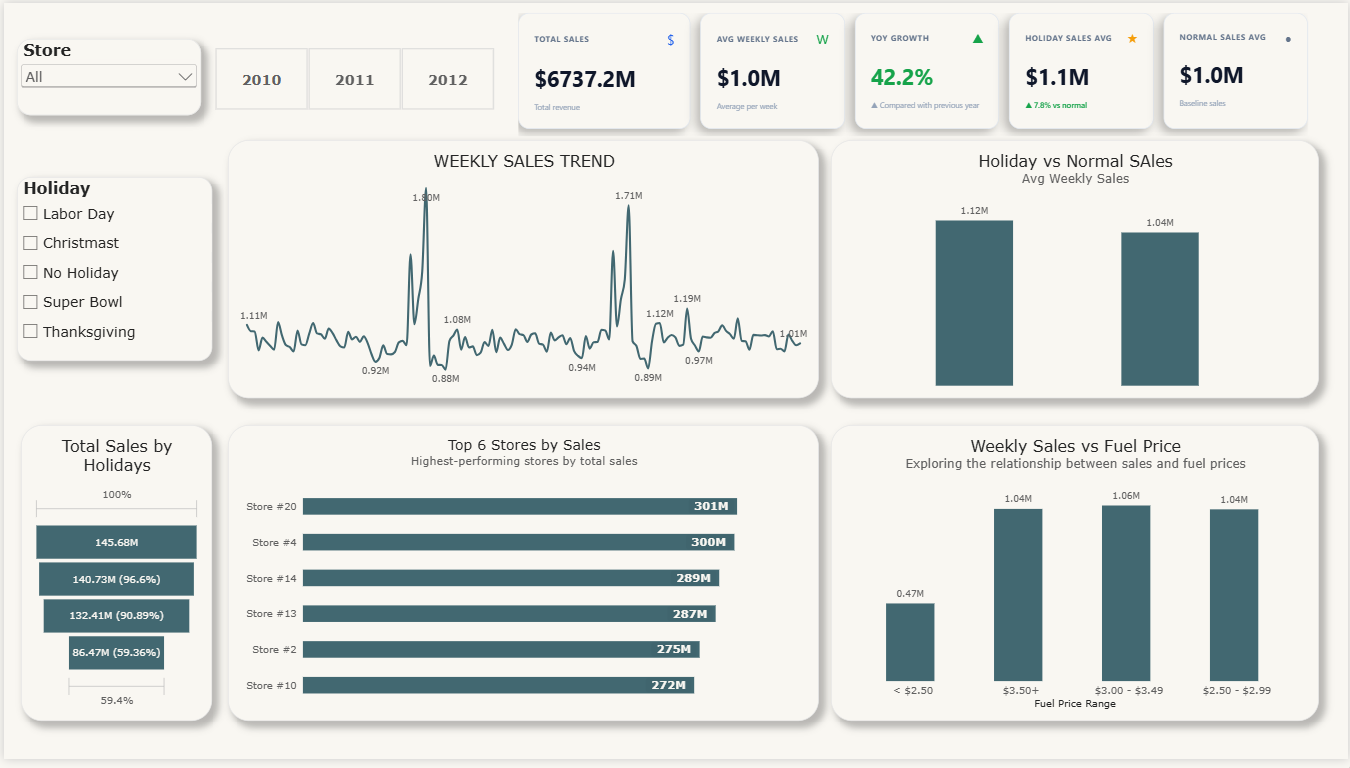

What the dashboard file says about the page in this screenshot:
{"tool":"powerbi","page":{"name":"Page 1","canvas":[1920,1080],"ordinal":0},"visuals":[{"type":"htmlContent443BE3AD55E043BF878BED274D3A6855","fields":{"content":["Measure(s).KPI Cards HTML"]},"box":[718.6,0,1160,205.7],"z":0},{"type":"lineChart","title":"WEEKLY SALES TREND","fields":{"Category":["Calendar.Date"],"Y":["Measure(s).Avg Weekly Sales"]},"box":[320,195.7,844.3,368.6],"z":1000},{"type":"clusteredColumnChart","title":"Holiday vs Normal SAles","fields":{"Category":["Sales Type.Type"],"Y":["Measure(s).Sales Type Value"]},"box":[1181.4,195.7,697,369],"z":2000},{"type":"clusteredBarChart","title":"Top 6 Stores by Sales","fields":{"Category":["Walmart_Sales.Store"],"Y":["Sum(Walmart_Sales.Weekly_Sales)"]},"box":[320,602.9,844.3,422.9],"z":3000},{"type":"columnChart","title":"Weekly Sales vs Fuel Price","fields":{"Category":["Walmart_Sales.Store","Walmart_Sales.Fuel Price Range"],"Y":["Avg(Walmart_Sales.Weekly_Sales)"]},"box":[1181.4,602.9,697.1,422.9],"z":4000},{"type":"slicer","fields":{"Values":["Calendar.Year"]},"box":[281.4,62.9,437.1,91.4],"z":4001},{"type":"slicer","fields":{"Values":["Walmart_Sales.Store"]},"box":[18.6,51.4,262.9,108.6],"z":4002},{"type":"slicer","fields":{"Values":["Walmart_Sales.Holiday"]},"box":[18.6,248.6,278.6,262.9],"z":4003},{"type":"funnel","title":"Total Sales by Holidays","fields":{"Category":["Walmart_Sales.Holiday"],"Y":["Sum(Walmart_Sales.Weekly_Sales)"]},"box":[24.3,602.9,272.9,422.9],"z":4004}]}

Visuals, with their boxes in screenshot pixels (x1, y1, x2, y2), scaled from the page's 1920x1080 canvas onto the 1350x768 screenshot:
htmlContent443BE3AD55E043BF878BED274D3A6855 - Measure(s).KPI Cards HTML: select_region(505, 0, 1321, 146)
"WEEKLY SALES TREND" lineChart: select_region(225, 139, 819, 401)
"Holiday vs Normal SAles" clusteredColumnChart: select_region(831, 139, 1321, 402)
"Top 6 Stores by Sales" clusteredBarChart: select_region(225, 429, 819, 729)
"Weekly Sales vs Fuel Price" columnChart: select_region(831, 429, 1321, 729)
slicer - Calendar.Year: select_region(198, 45, 505, 110)
slicer - Walmart_Sales.Store: select_region(13, 37, 198, 114)
slicer - Walmart_Sales.Holiday: select_region(13, 177, 209, 364)
"Total Sales by Holidays" funnel: select_region(17, 429, 209, 729)
